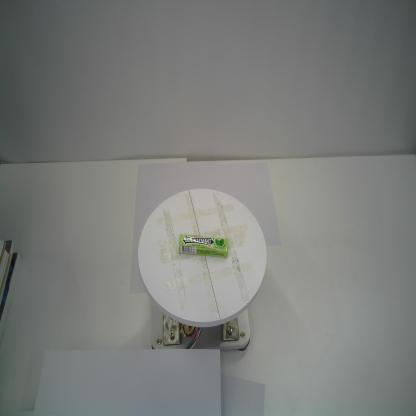Gum: (178, 234, 229, 258)
